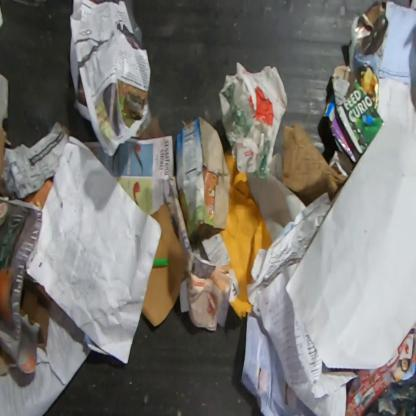cardboard: (218, 148, 273, 318), (0, 197, 52, 375), (219, 62, 288, 178), (176, 115, 230, 245), (281, 122, 347, 206), (142, 201, 186, 326), (331, 64, 384, 155), (322, 90, 362, 164), (0, 72, 10, 179), (23, 178, 53, 209), (138, 114, 164, 140)
